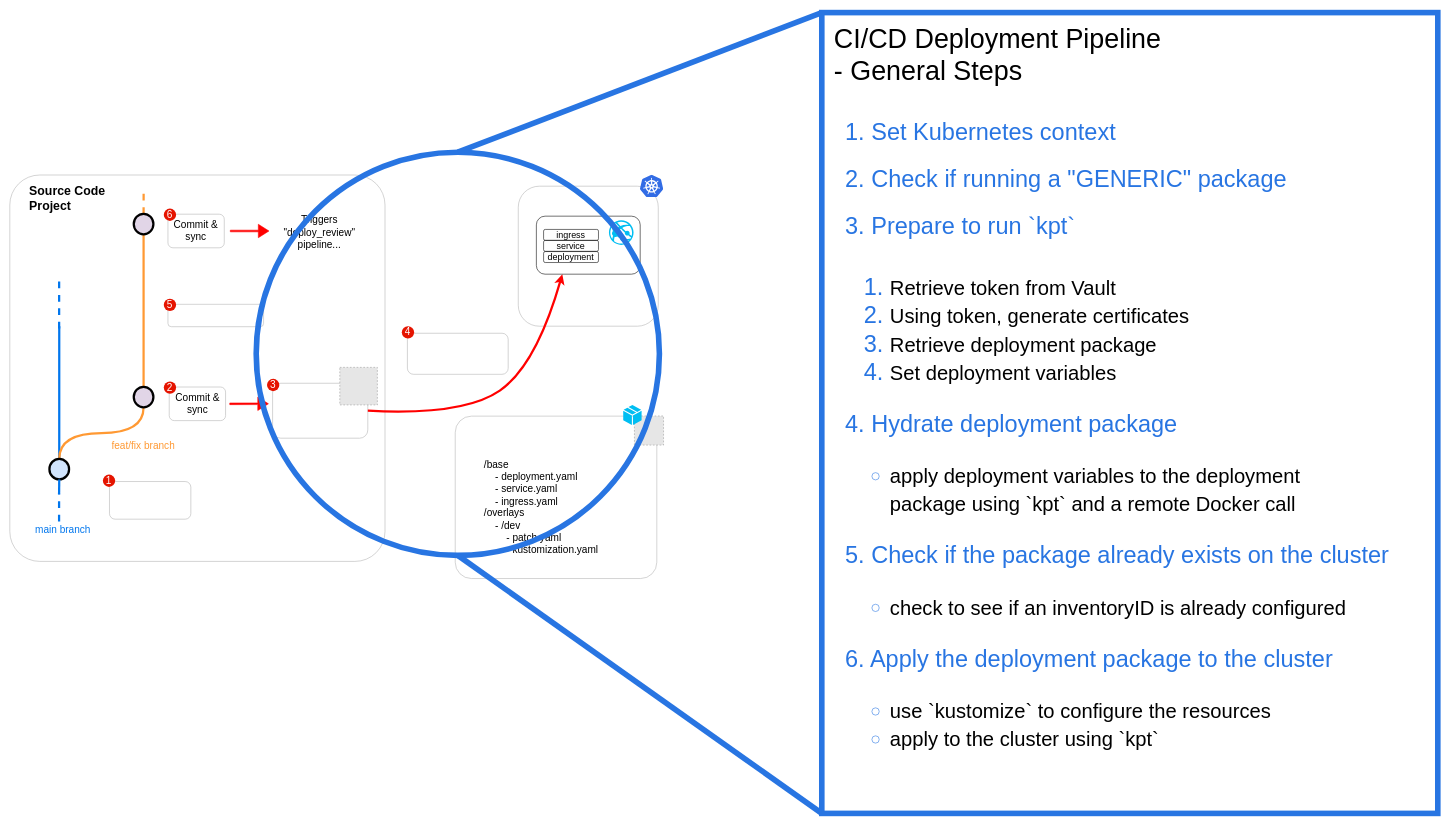
Image size: 1450x826. Some labels were removed from this diagram. Grey dashed boxes stand in for pictures. The box of each missing label's shape, as (x1, y1, x2, y2) in pixels:
...do more work...: (167, 304, 264, 327)
Applies Deployment Package to dev cluster: (407, 333, 508, 374)
Create issue, merge request, and branch: (109, 481, 191, 519)
Deployment Package Project: (455, 416, 657, 579)
dev cluster: (518, 186, 658, 326)
Triggers "deploy_review" pipeline: (272, 383, 368, 438)
